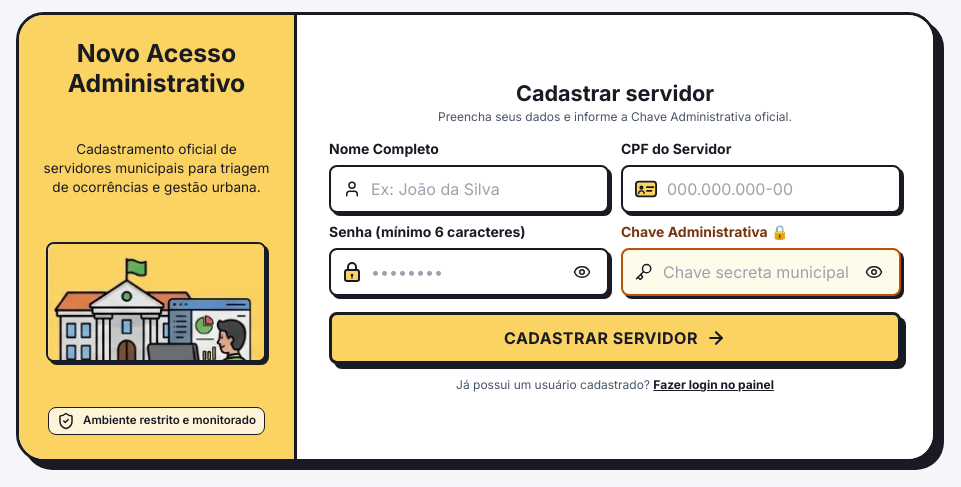
Página CadastroPrefeitura (/cadastro/prefeitura) › deve barrar submissão se a Chave Administrativa não for preenchida
Type "Carlos Silva" into the field labelled "Nome Completo" at x=488, y=190, box [371, 168, 605, 212]
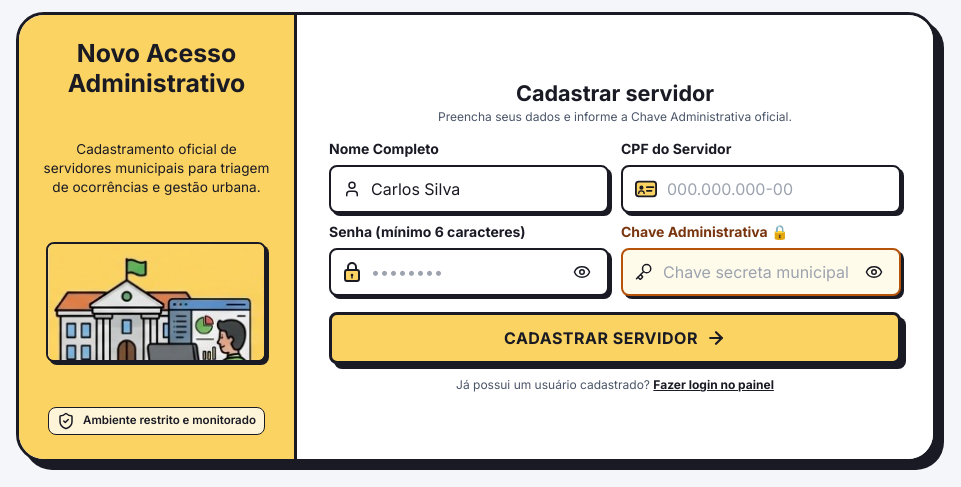
Type "11122233344" into the field labelled "CPF do Servidor" at x=784, y=190, box [667, 168, 901, 212]
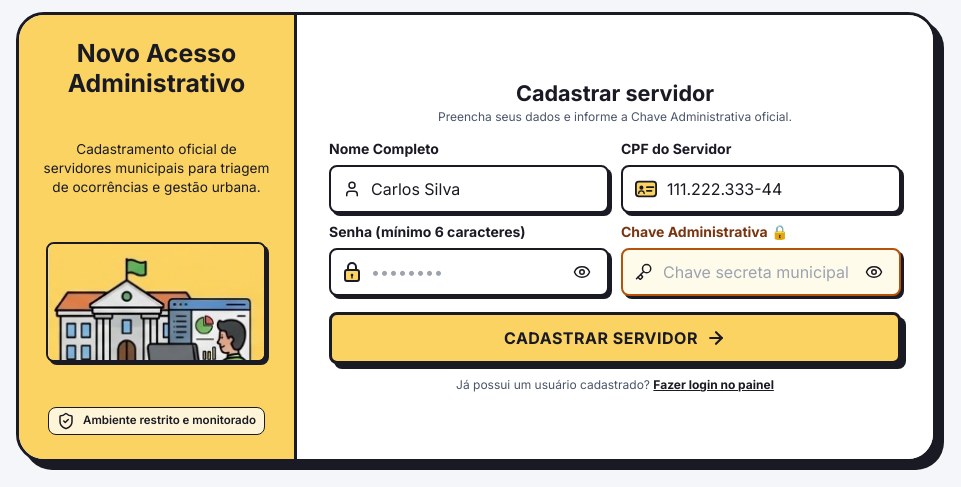
Type "senhaForte123" into the password field labelled "Senha (mínimo 6 caracteres)" at x=470, y=272, box [371, 250, 569, 294]
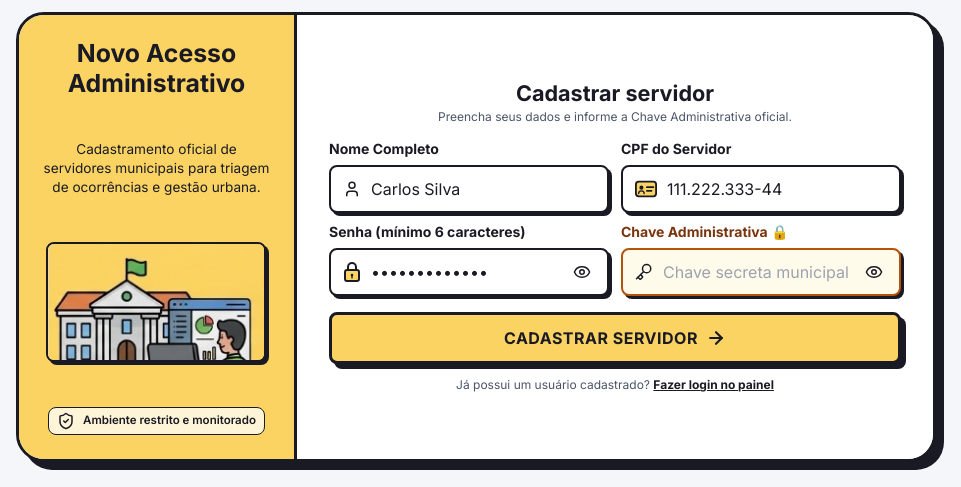
Click the button with aria-label "Concluir cadastro de servidor público" at x=615, y=338, box [329, 312, 901, 364]
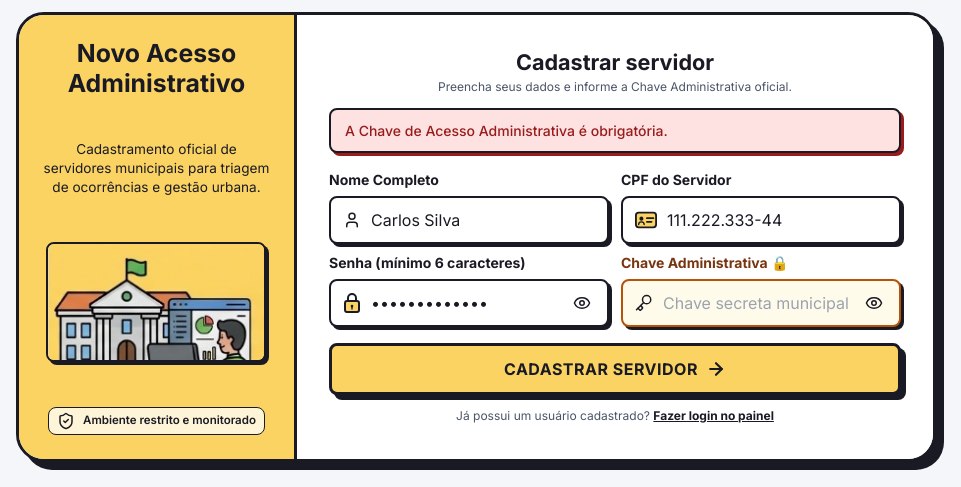
Expected: the text "A Chave de Acesso Administrativa é obrigatória." is shown, [329, 108, 901, 153]
